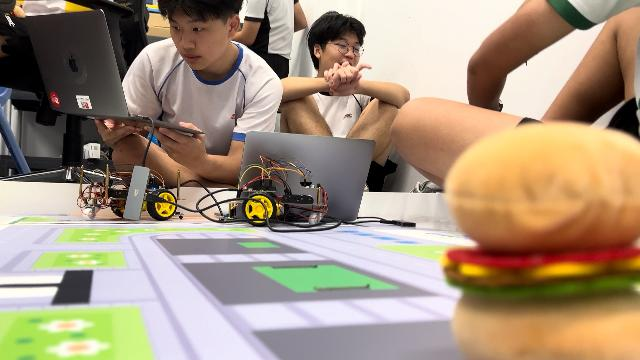burger: (438, 120, 640, 354)
